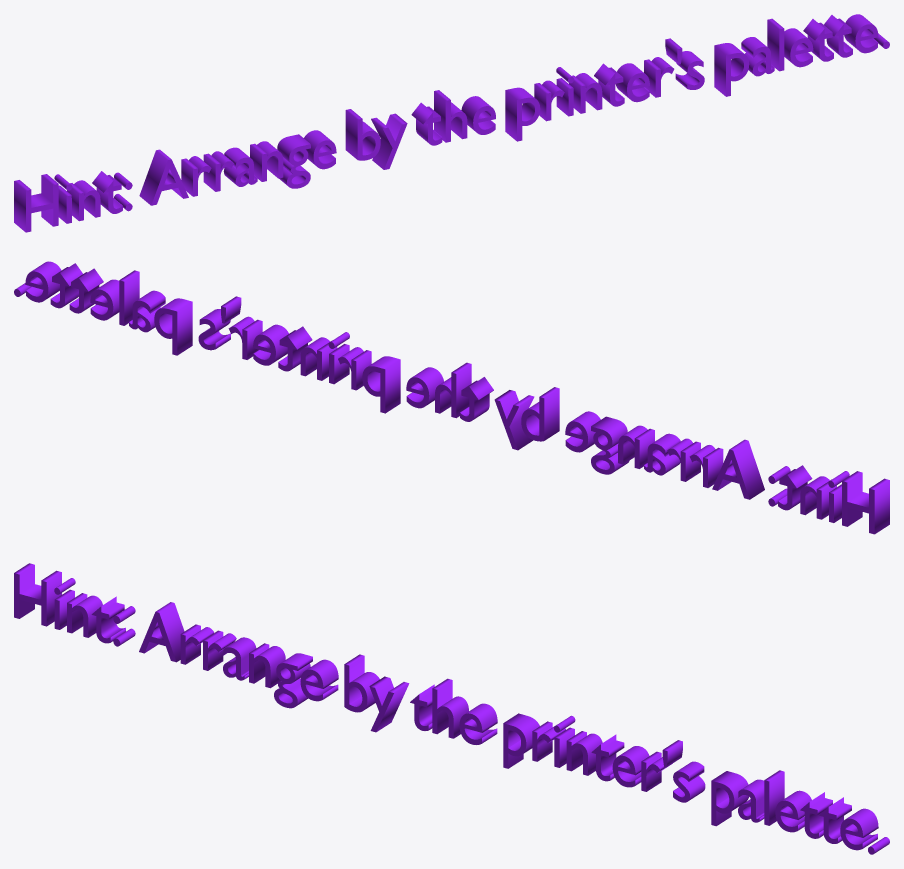
File: HINT.glb
The picture shows the model from 3 angles, top to bottom: view 1: azimuth 30°, elevation 25°; view 2: azimuth 150°, elevation 25°; view 3: azimuth 330°, elevation 25°; orthographic projection. The views are drawn at different scales.
Parts seen in each view (by area): view 1: 3_by; view 2: 3_by; view 3: 3_by.
Boxes of the visible parts, left/top/right/bottom form: 3_by: left=14, top=14, right=889, bottom=232; 3_by: left=14, top=261, right=889, bottom=534; 3_by: left=14, top=563, right=889, bottom=854.
Size of the model in its own units: 12.49 by 0.8313 by 1.04.
